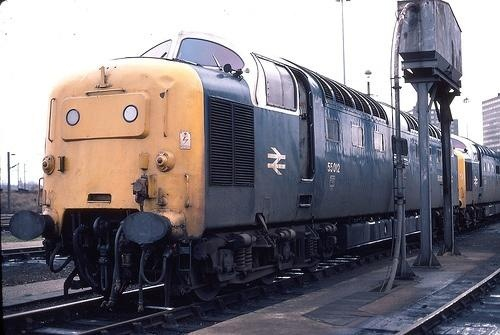train: (49, 30, 500, 309)
